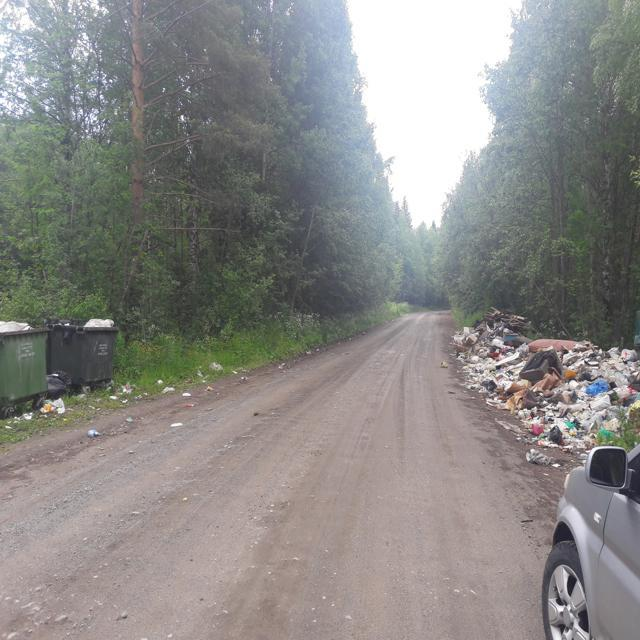lixeira: (452, 310, 639, 469), (83, 357, 221, 437), (7, 369, 70, 440), (74, 317, 116, 330), (0, 318, 37, 329)
